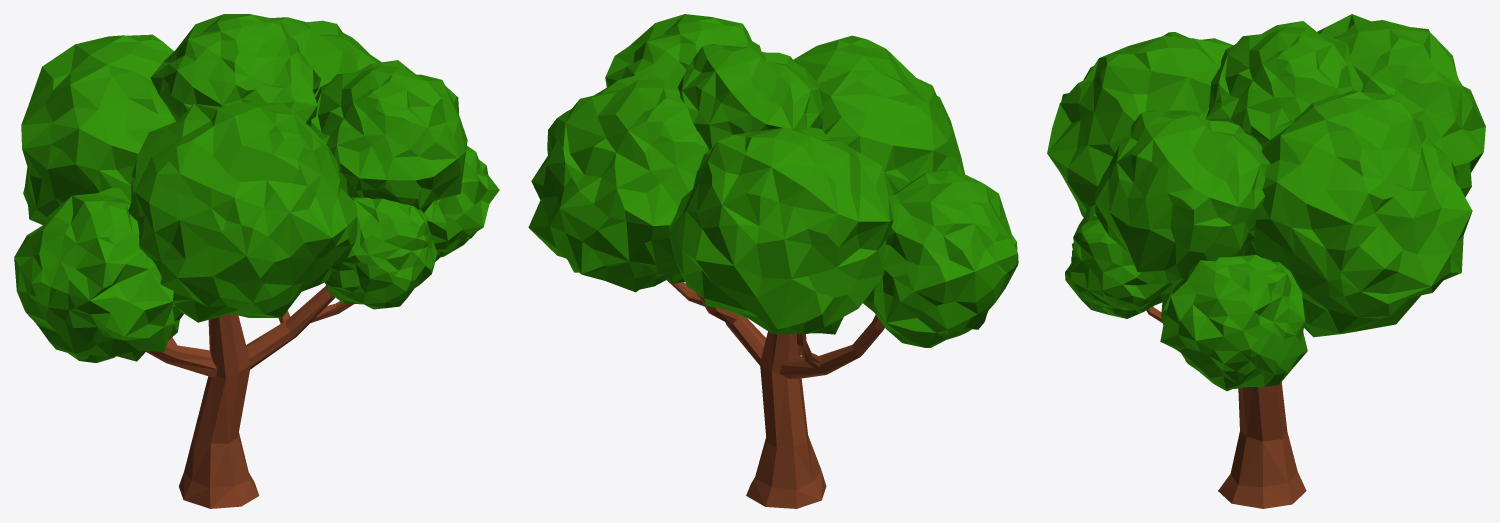
File: Tree_big.glb
3 renders of one model, left to right at view 1: azimuth 30°, elevation 25°; view 2: azimuth 150°, elevation 25°; view 3: azimuth 270°, elevation 25°, orthographic. The views are drawn at different scales.
Visible parts, largest first — view 1: Tree.3; view 2: Tree.3; view 3: Tree.3.
Boxes of the visible parts, <box> form: Tree.3: <box>14,14,499,508</box>; Tree.3: <box>528,14,1018,508</box>; Tree.3: <box>1047,14,1485,508</box>.
Bounding box in the file's own units: 8.18 × 7.62 × 6.38.
